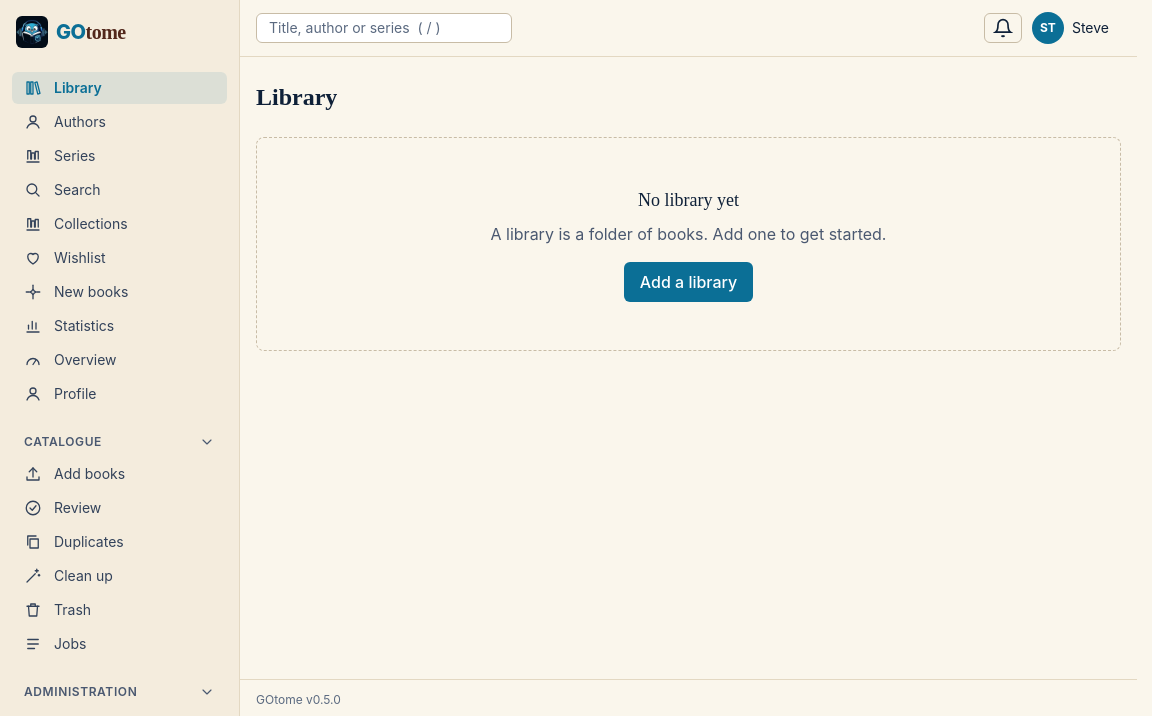
Scenario: libraries › tells an administrator with no library how to get started
The image size is (1152, 716).
Click the link "Add a library". click: (688,282)
box: [624,262,753,302]
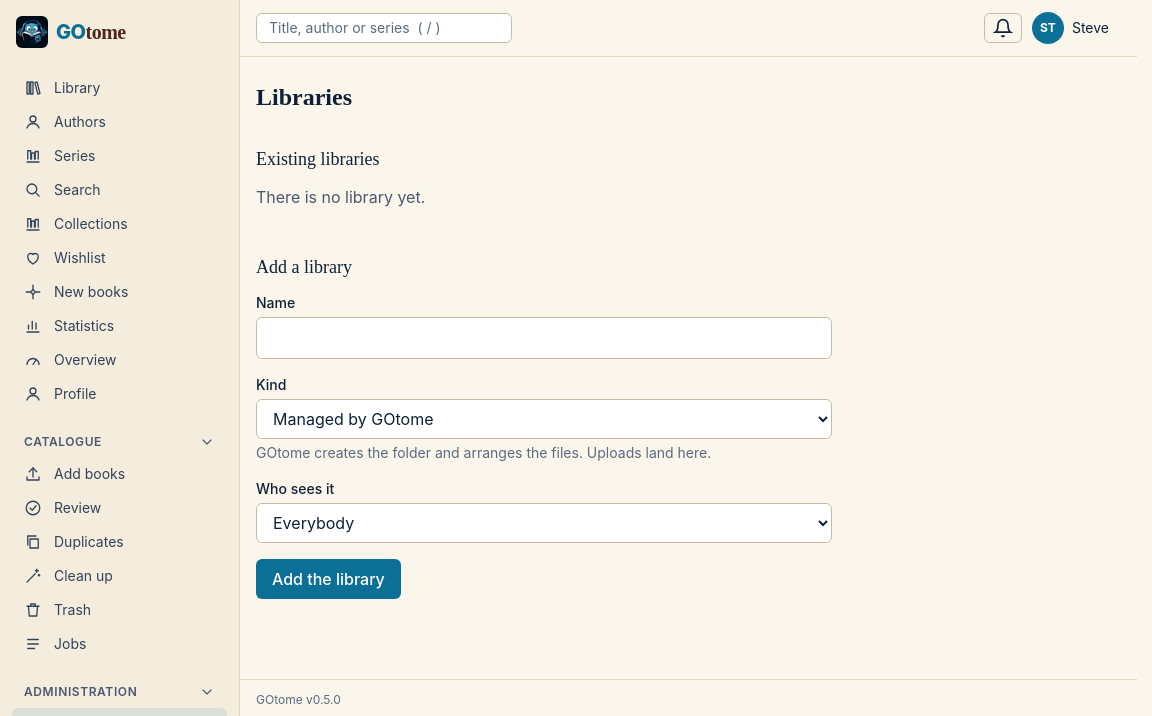
Expected: the heading "Libraries" is shown, [256,84,352,110]
